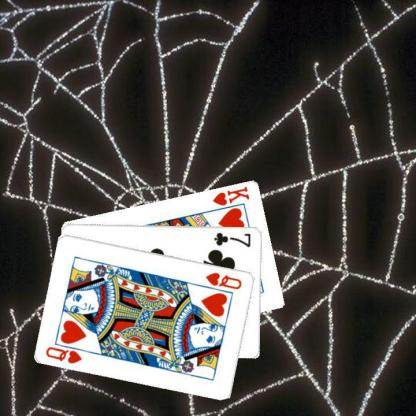7C: (212, 230, 253, 248)
KH: (210, 184, 251, 207)
QH: (43, 340, 90, 364), (204, 269, 244, 291)
